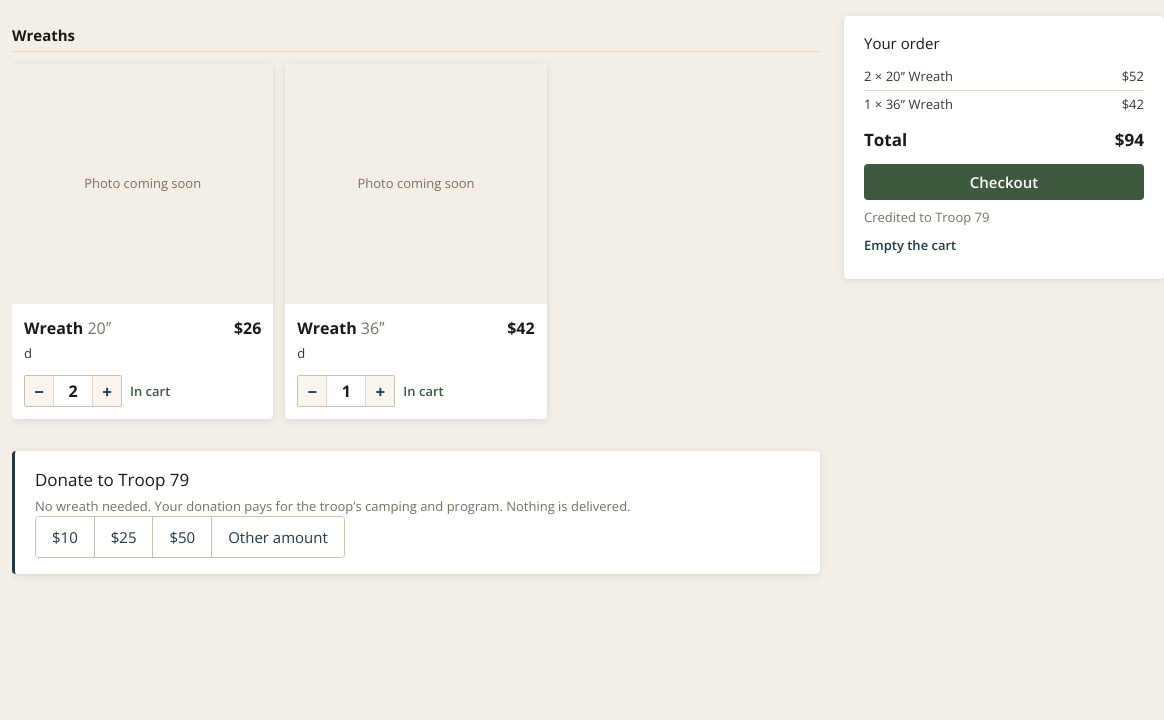
Test case: empty the cart › EmptyCart_ClearsLines_AndUndoRestoresThem
Click the button "Empty the cart" at (910,245), box [864,228,956,263]
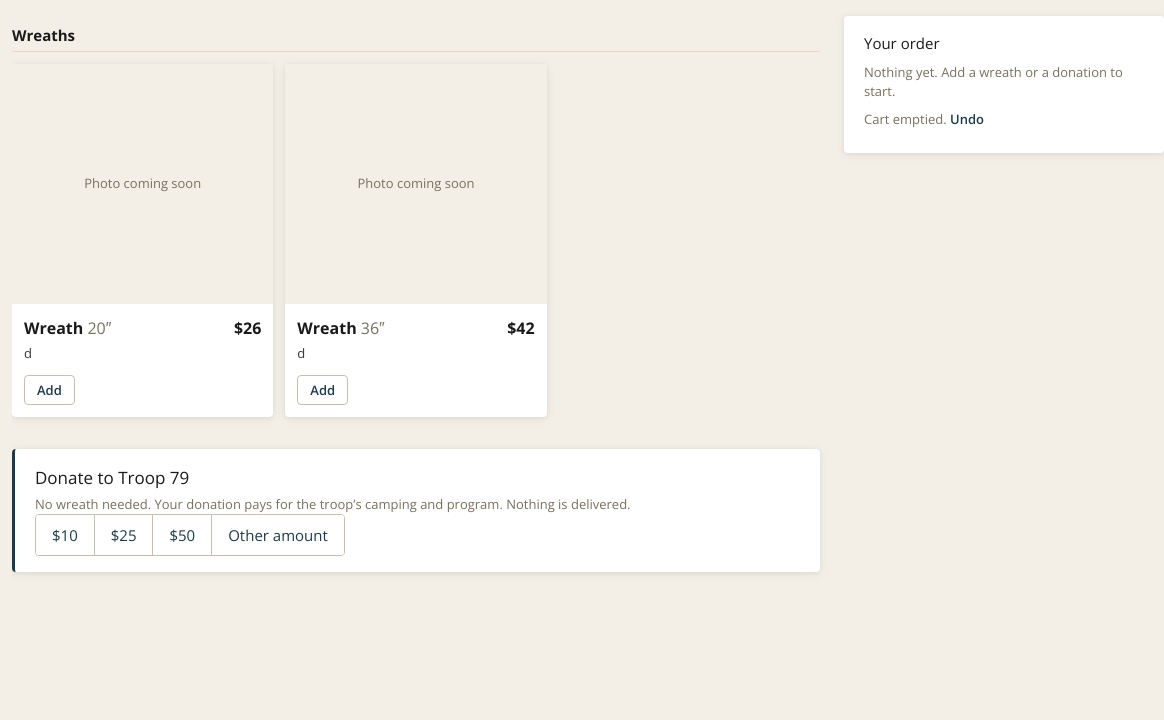
Click the button "Undo" at (967,119), box [950,102,984,137]
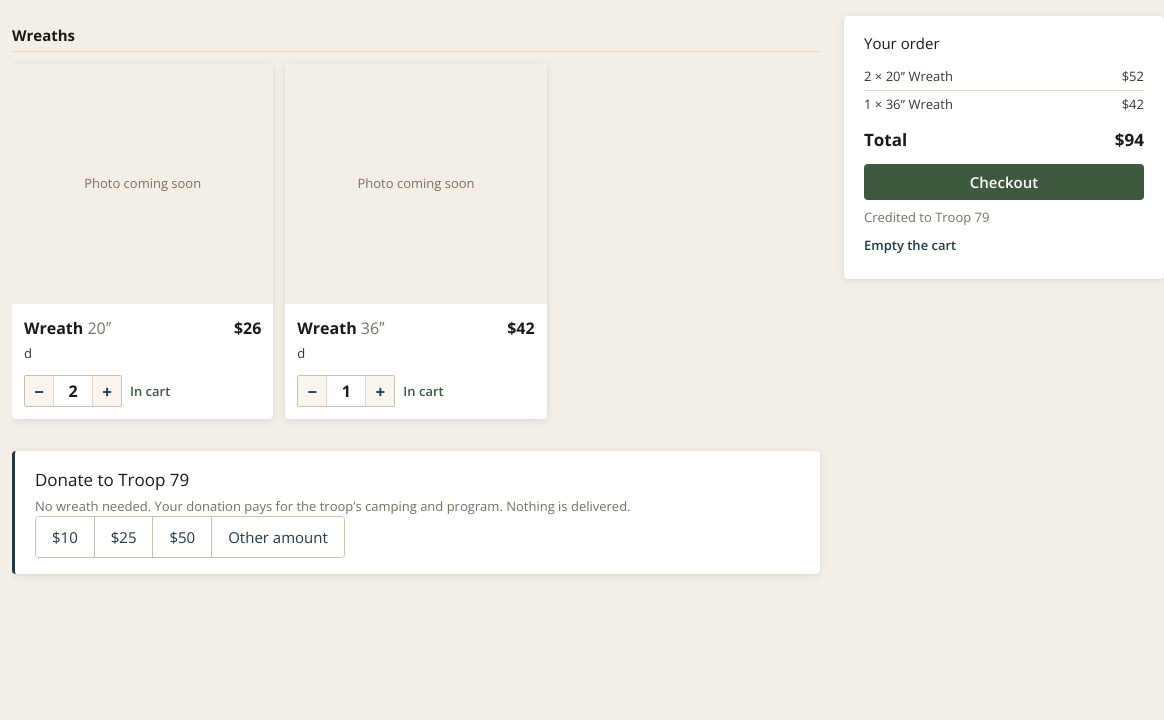
Now the button "Empty the cart" is shown, box [864,228,956,263]
